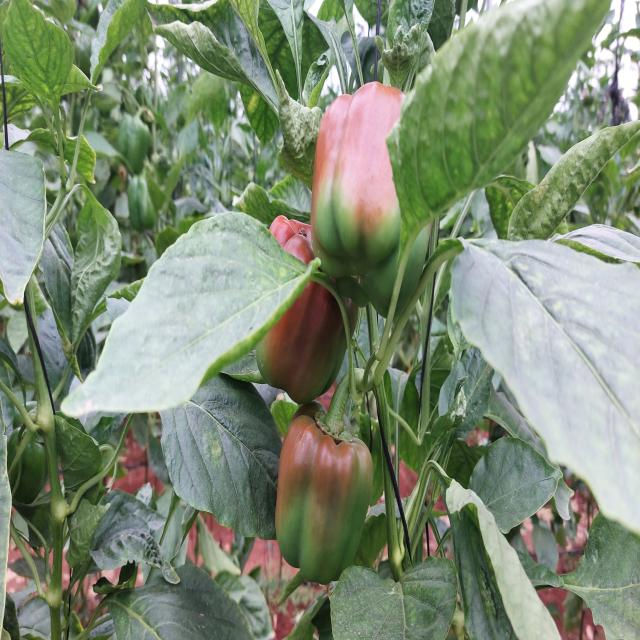BrownishRed--Can-be-Harvested: (314, 64, 422, 302), (274, 413, 385, 585), (252, 229, 342, 381)
